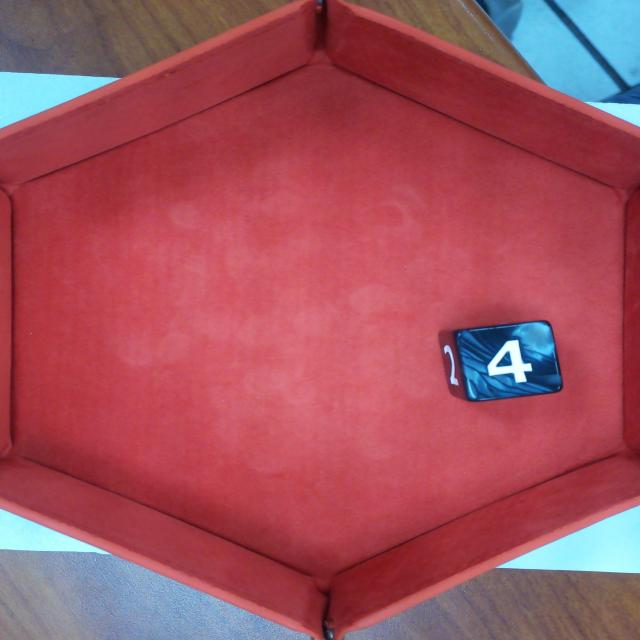dice: (453, 321, 560, 397)
